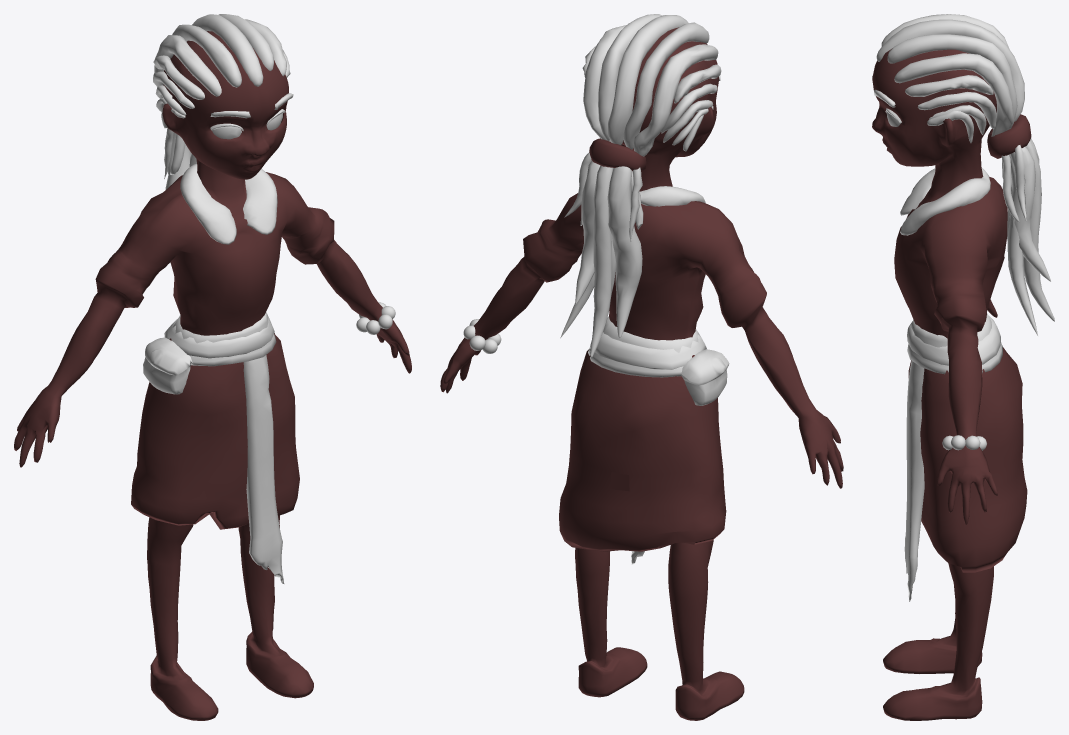
The model's file is mixamovrouw.fbx.
The picture shows the model from 3 angles, left to right: view 1: azimuth 30°, elevation 25°; view 2: azimuth 150°, elevation 25°; view 3: azimuth 270°, elevation 25°; orthographic projection.
Parts seen in each view (by area): view 1: Female_body_low, Female_skirt_low, Female_belt_low, Female_hair_low, Female_collarshirt_low, Female_pouch_low, Female_bracelet_low; view 2: Female_body_low, Female_skirt_low, Female_hair_low, Female_belt_low, Female_pouch_low, Female_hairband_low, Female_collarshirt_low, Female_bracelet_low; view 3: Female_body_low, Female_hair_low, Female_skirt_low, Female_belt_low, Female_collarshirt_low, Female_hairband_low, Female_bracelet_low.
Part boxes in pixels (x1=…): Female_body_low: x1=14, y1=31, x2=411, y2=720; Female_skirt_low: x1=131, y1=333, x2=299, y2=529; Female_belt_low: x1=164, y1=312, x2=284, y2=583; Female_hair_low: x1=153, y1=14, x2=290, y2=263; Female_collarshirt_low: x1=180, y1=163, x2=277, y2=244; Female_pouch_low: x1=143, y1=337, x2=193, y2=394; Female_bracelet_low: x1=356, y1=302, x2=395, y2=334; Female_body_low: x1=440, y1=27, x2=843, y2=720; Female_skirt_low: x1=559, y1=349, x2=726, y2=551; Female_hair_low: x1=560, y1=14, x2=721, y2=358; Female_belt_low: x1=588, y1=316, x2=706, y2=564; Female_pouch_low: x1=681, y1=349, x2=729, y2=405; Female_hairband_low: x1=589, y1=138, x2=646, y2=171; Female_collarshirt_low: x1=639, y1=186, x2=705, y2=206; Female_bracelet_low: x1=463, y1=319, x2=501, y2=353; Female_body_low: x1=872, y1=48, x2=1007, y2=720; Female_hair_low: x1=876, y1=14, x2=1054, y2=335; Female_skirt_low: x1=908, y1=347, x2=1027, y2=572; Female_belt_low: x1=904, y1=313, x2=1002, y2=601; Female_collarshirt_low: x1=900, y1=168, x2=990, y2=235; Female_hairband_low: x1=987, y1=114, x2=1031, y2=158; Female_bracelet_low: x1=942, y1=435, x2=986, y2=450.
Bounding box in the file's own units: 0.7688 × 1.25 × 0.3102.
